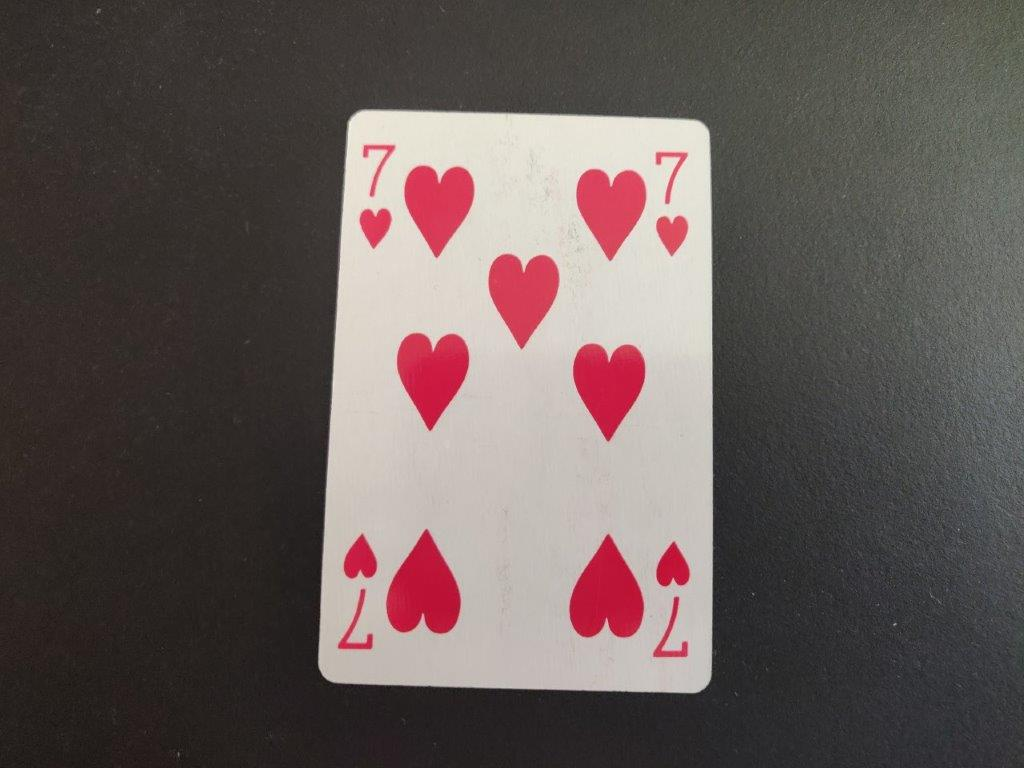7H: (651, 147, 697, 268), (353, 139, 400, 256)
